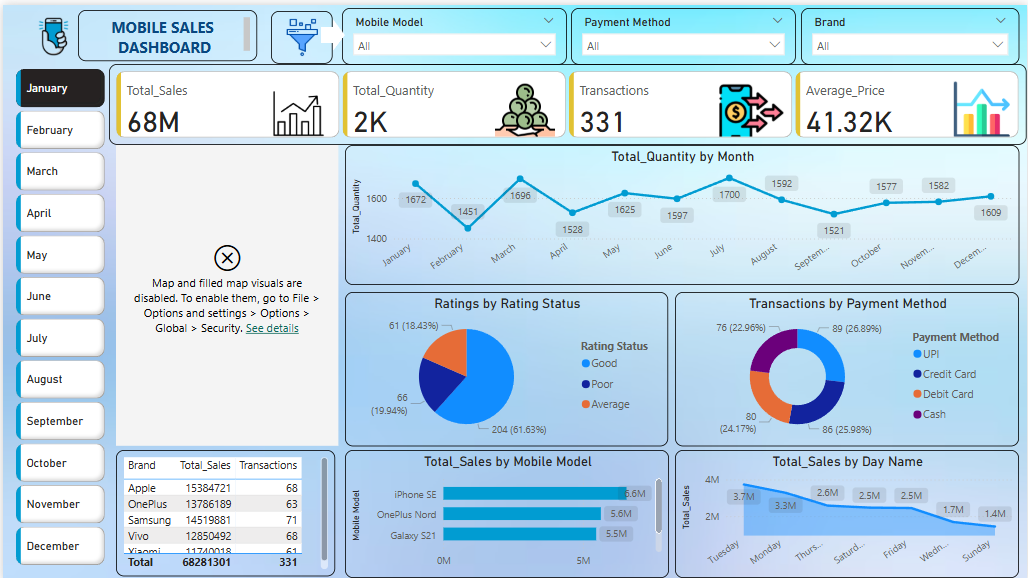

The dashboard page shown, as its layout file describes it:
{"tool":"powerbi","page":{"name":"Dashboard","canvas":[1280,720],"ordinal":7},"visuals":[{"type":"image","box":[23.8,3.8,78.8,71.2],"z":1000},{"type":"advancedSlicerVisual","fields":{"Values":["Custom_Calendar.Date.Variation.Date Hierarchy.Month"]},"box":[10.9,74.8,121.9,639.4],"z":3000},{"type":"cardVisual","fields":{"Data":["Sales_Data.Total_Sales","Sales_Data.Total_Quantity","Sales_Data.Transactions","Sales_Data.Average_Price"]},"box":[132.7,73.6,1147.3,101.3],"z":4000},{"type":"slicer","fields":{"Values":["Sales_Data.Mobile Model"]},"box":[423.8,3.8,281.2,71.2],"z":5000},{"type":"slicer","fields":{"Values":["Sales_Data.Payment Method"]},"box":[710,3.8,281.2,71.2],"z":6000},{"type":"slicer","fields":{"Values":["Sales_Data.Brand"]},"box":[997.5,3.8,272.5,71.2],"z":7000},{"type":"image","box":[335.4,7.2,77.2,66.4],"z":9000},{"type":"shape","box":[397.5,17.5,30,40],"z":10000},{"type":"textbox","box":[94.1,6,224.4,63.9],"z":12000},{"type":"map","fields":{"Category":["Sales_Data.City"],"Size":["Sales_Data.Total_Sales"]},"box":[141.2,175,277.5,376.2],"z":13000},{"type":"lineChart","fields":{"Y":["Sales_Data.Total_Quantity"],"Category":["Custom_Calendar.Date.Variation.Date Hierarchy.Month"]},"box":[427.5,175,842.5,175],"z":14000},{"type":"pieChart","title":"Ratings by Rating Status","fields":{"Category":["Sales_Data.Rating Status"],"Y":["CountNonNull(Sales_Data.Customer Ratings)"]},"box":[427.5,358.8,403.8,192.5],"z":15000},{"type":"donutChart","fields":{"Y":["Sales_Data.Transactions"],"Category":["Sales_Data.Payment Method"]},"box":[840,358.8,430,192.5],"z":16000},{"type":"clusteredBarChart","fields":{"Y":["Sales_Data.Total_Sales"],"Category":["Sales_Data.Mobile Model"]},"box":[427.1,556.2,405.4,160.5],"z":17000},{"type":"areaChart","fields":{"Y":["Sales_Data.Total_Sales"],"Category":["Custom_Calendar.Day Name"]},"box":[840,556.2,430,160],"z":18000},{"type":"tableEx","fields":{"Values":["Sales_Data.Brand","Sales_Data.Total_Sales","Sales_Data.Transactions"]},"box":[141.2,556.2,273.9,158],"z":19000}]}

Visuals, with their boxes in screenshot pixels (x1, y1, x2, y2), scaled from the page's 1280x720 canvas onto the 1028x578 screenshot:
image: {"left": 19, "top": 3, "right": 82, "bottom": 60}
advancedSlicerVisual - Custom_Calendar.Date.Variation.Date Hierarchy.Month: {"left": 9, "top": 60, "right": 107, "bottom": 573}
cardVisual - Sales_Data.Total_Sales x Sales_Data.Total_Quantity: {"left": 107, "top": 59, "right": 1027, "bottom": 140}
slicer - Sales_Data.Mobile Model: {"left": 340, "top": 3, "right": 566, "bottom": 60}
slicer - Sales_Data.Payment Method: {"left": 570, "top": 3, "right": 796, "bottom": 60}
slicer - Sales_Data.Brand: {"left": 801, "top": 3, "right": 1020, "bottom": 60}
image: {"left": 269, "top": 6, "right": 331, "bottom": 59}
shape: {"left": 319, "top": 14, "right": 343, "bottom": 46}
textbox: {"left": 76, "top": 5, "right": 256, "bottom": 56}
map - Sales_Data.City x Sales_Data.Total_Sales: {"left": 113, "top": 140, "right": 336, "bottom": 442}
lineChart - Sales_Data.Total_Quantity x Custom_Calendar.Date.Variation.Date Hierarchy.Month: {"left": 343, "top": 140, "right": 1020, "bottom": 281}
"Ratings by Rating Status" pieChart: {"left": 343, "top": 288, "right": 668, "bottom": 443}
donutChart - Sales_Data.Transactions x Sales_Data.Payment Method: {"left": 675, "top": 288, "right": 1020, "bottom": 443}
clusteredBarChart - Sales_Data.Total_Sales x Sales_Data.Mobile Model: {"left": 343, "top": 447, "right": 669, "bottom": 575}
areaChart - Sales_Data.Total_Sales x Custom_Calendar.Day Name: {"left": 675, "top": 447, "right": 1020, "bottom": 575}
tableEx - Sales_Data.Brand x Sales_Data.Total_Sales: {"left": 113, "top": 447, "right": 333, "bottom": 573}
